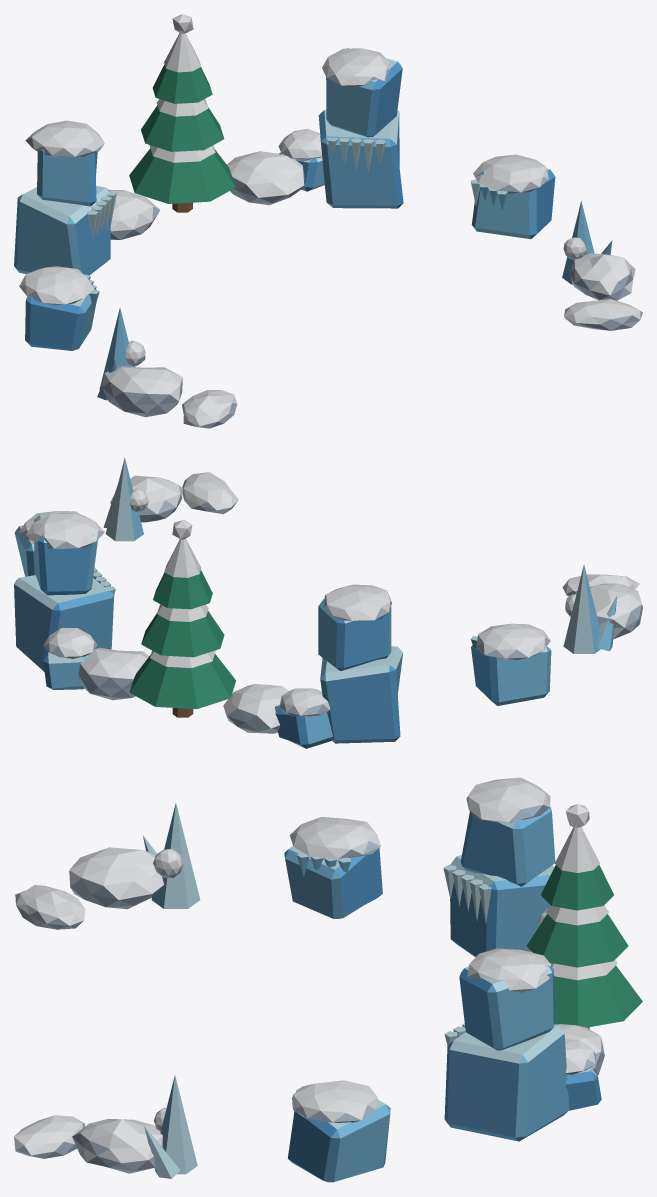
File: habitat_theme_ice.fbx
3 renders of one model, top to bottom at view 1: azimuth 30°, elevation 25°; view 2: azimuth 150°, elevation 25°; view 3: azimuth 270°, elevation 25°, orthographic. The views are drawn at different scales.
Parts seen in each view (by area): view 1: habitat_theme_ice; view 2: habitat_theme_ice; view 3: habitat_theme_ice.
Part boxes in pixels (left/top/right/bottom): habitat_theme_ice: left=14, top=14, right=642, bottom=428; habitat_theme_ice: left=14, top=457, right=642, bottom=748; habitat_theme_ice: left=14, top=777, right=642, bottom=1182.
Bounding box in the file's own units: 7.1 × 2.48 × 6.15.
